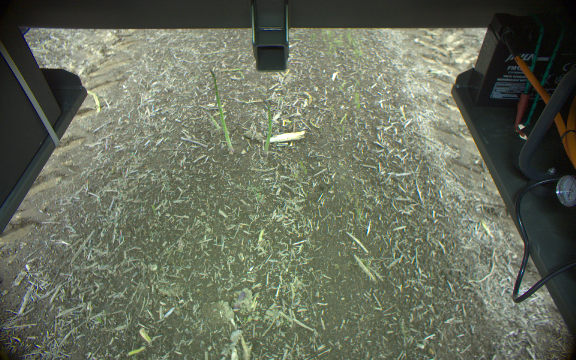aspa: (209, 67, 234, 151), (260, 97, 271, 155)
